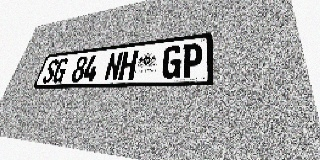4: (81, 54, 101, 82)
8: (69, 56, 89, 82)
G: (161, 45, 183, 79), (51, 58, 70, 83)
H: (118, 50, 139, 80)
N: (103, 52, 124, 81)
P: (181, 43, 203, 78)
S: (41, 59, 60, 83)
